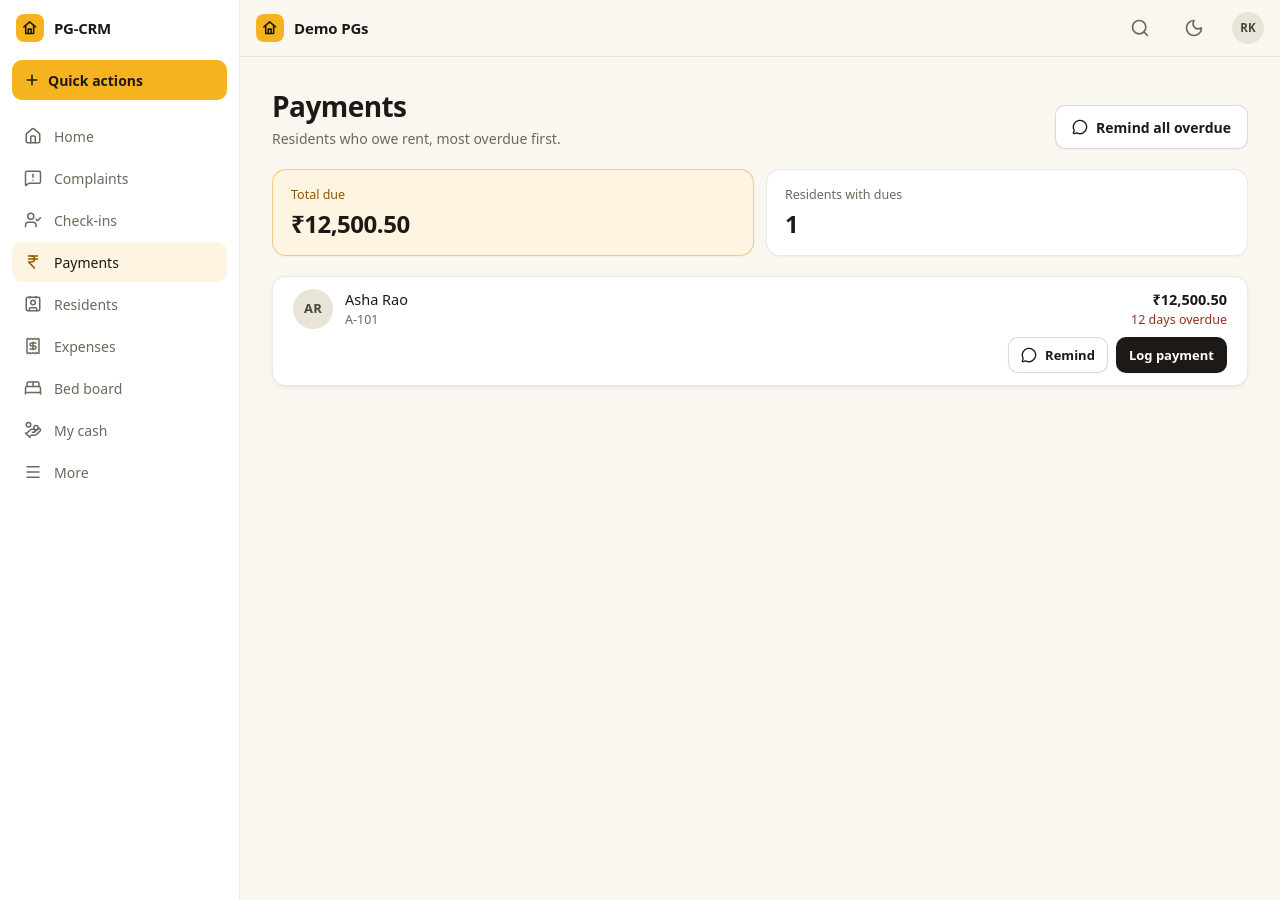
Test: Log payment sheet › [FE-31/AC1] a cash payment shows the Cash badge and a WhatsApp share link from the API
The image size is (1280, 900).
Click the button with aria-label "Log payment for Asha Rao": (1171,355) [1116,337,1227,373]
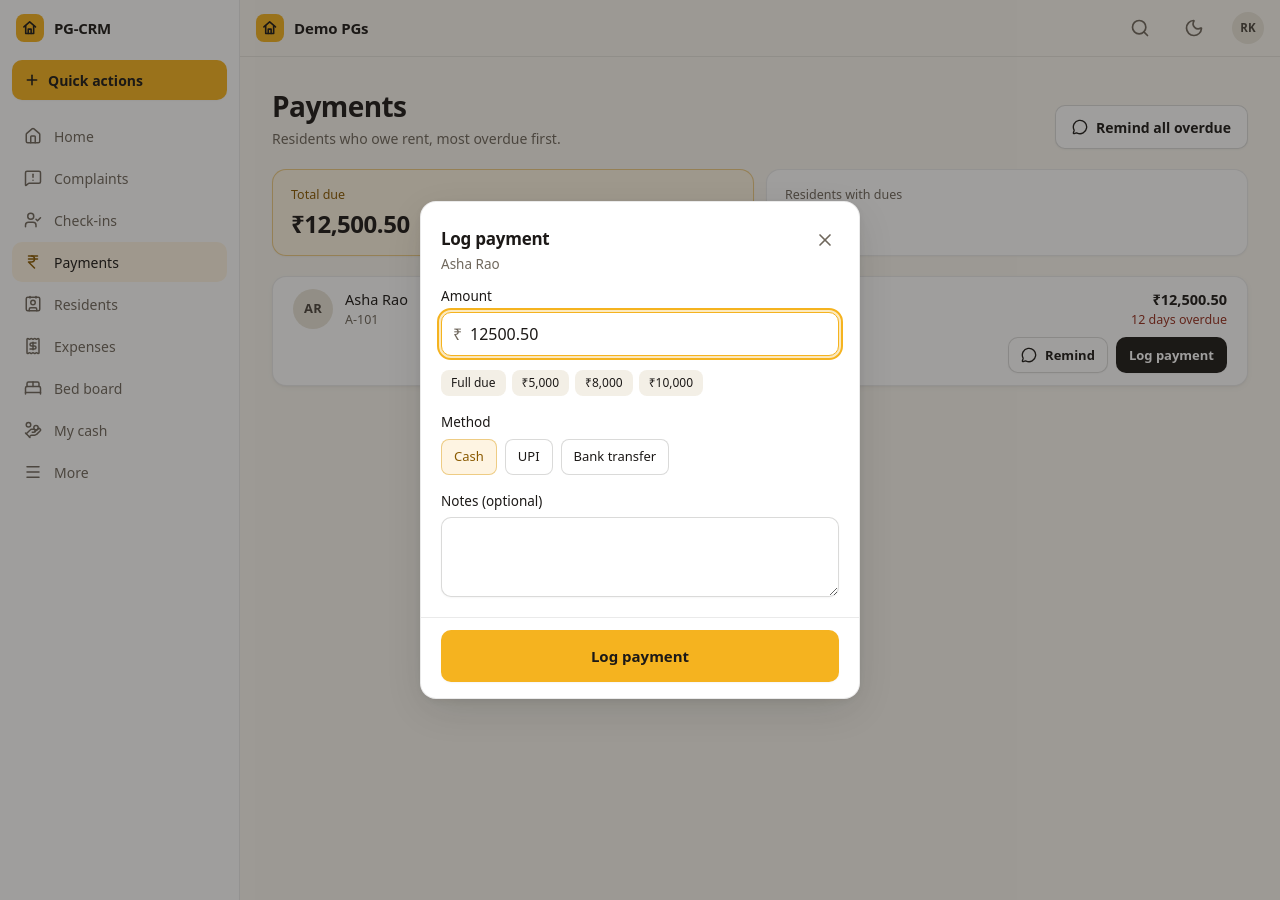
expect the field labelled "Amount" holds "12500.50": met, box [441,312,839,356]
Click the submit button: (640,656) [441,630,839,682]
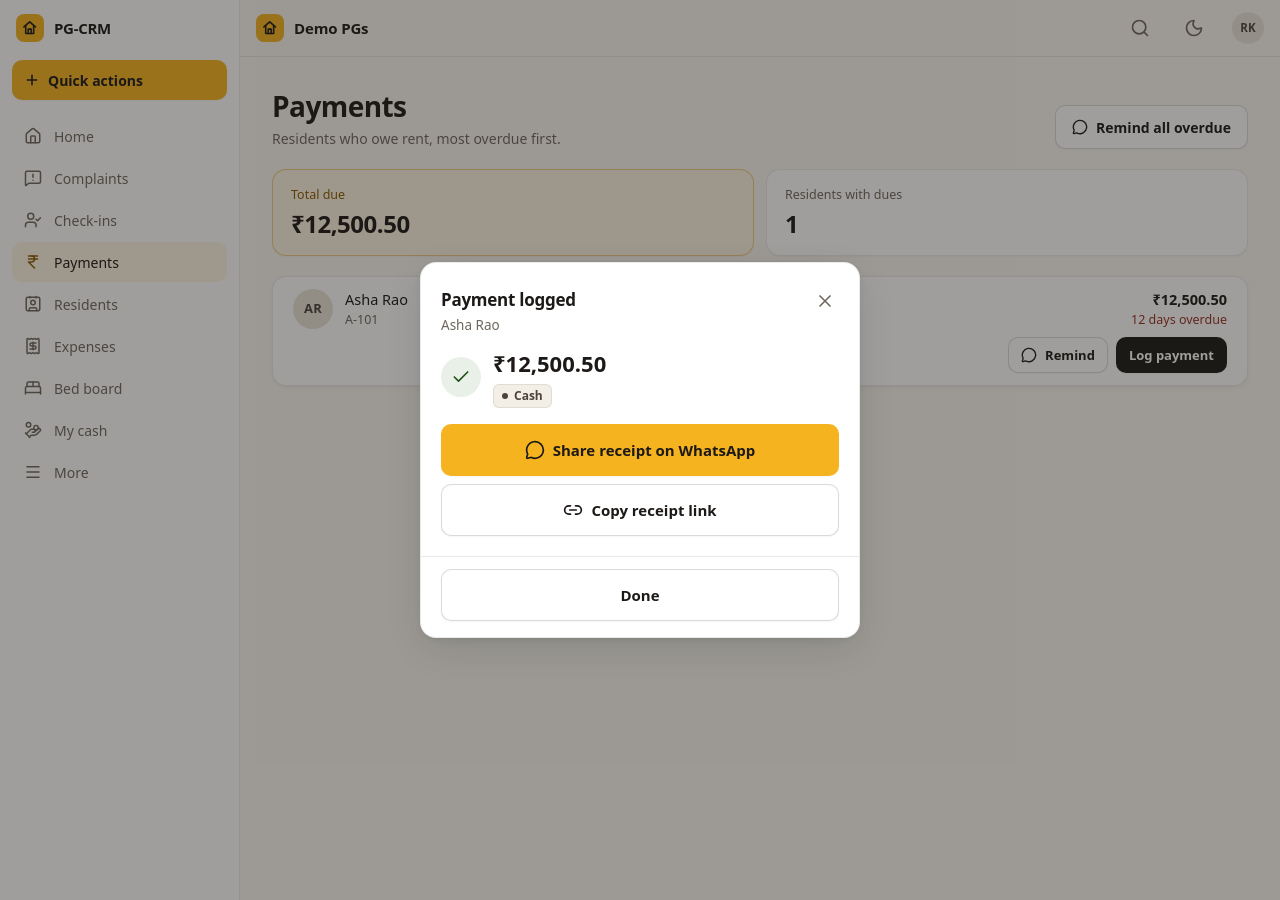
expect the text "Cash" is shown: met, box [493,384,552,408]
expect the heading "Payment logged" is shown: met, box [441,287,576,313]
expect the button "Copy receipt link" is shown: met, box [441,484,839,536]
